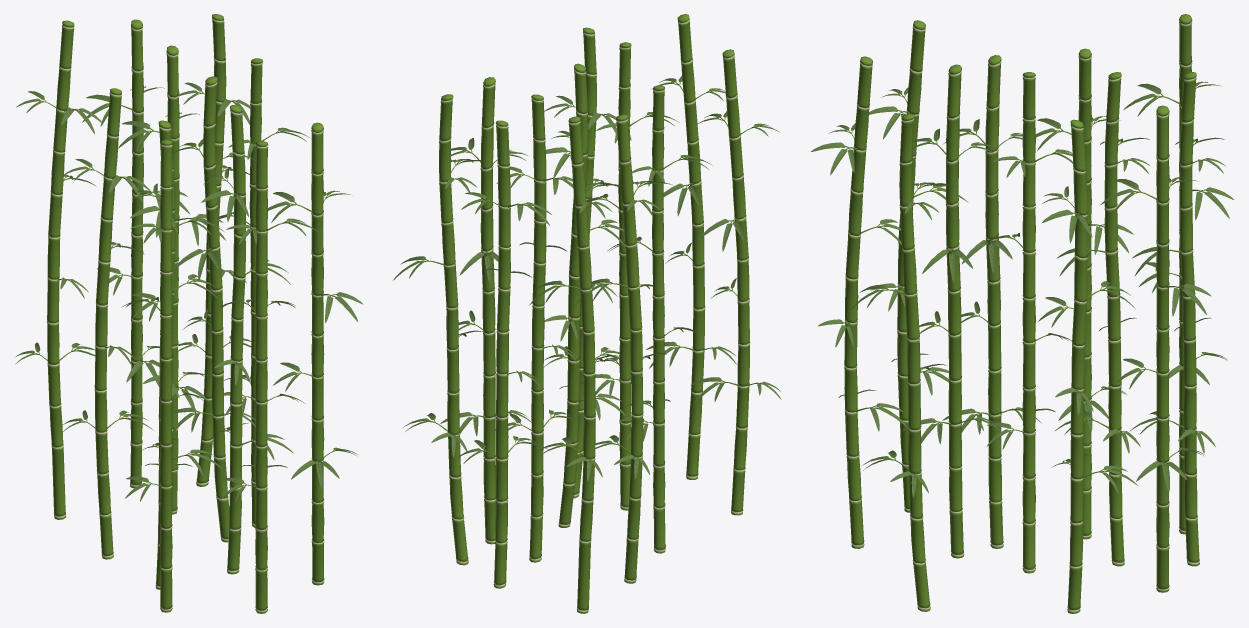
File: bamboo4.fbx
3 views of the same model, side by side, from view 1: azimuth 30°, elevation 25°; view 2: azimuth 150°, elevation 25°; view 3: azimuth 270°, elevation 25° (orthographic). The views are drawn at different scales.
Parts seen in each view (by area): view 1: Bamboo.009; view 2: Bamboo.009; view 3: Bamboo.009.
Part boxes in pixels (x1,y1,x2,y2): Bamboo.009: (15,14,363,613); Bamboo.009: (393,14,781,613); Bamboo.009: (811,14,1233,613).
Size of the model in its own units: 2658 by 4820 by 3505.
